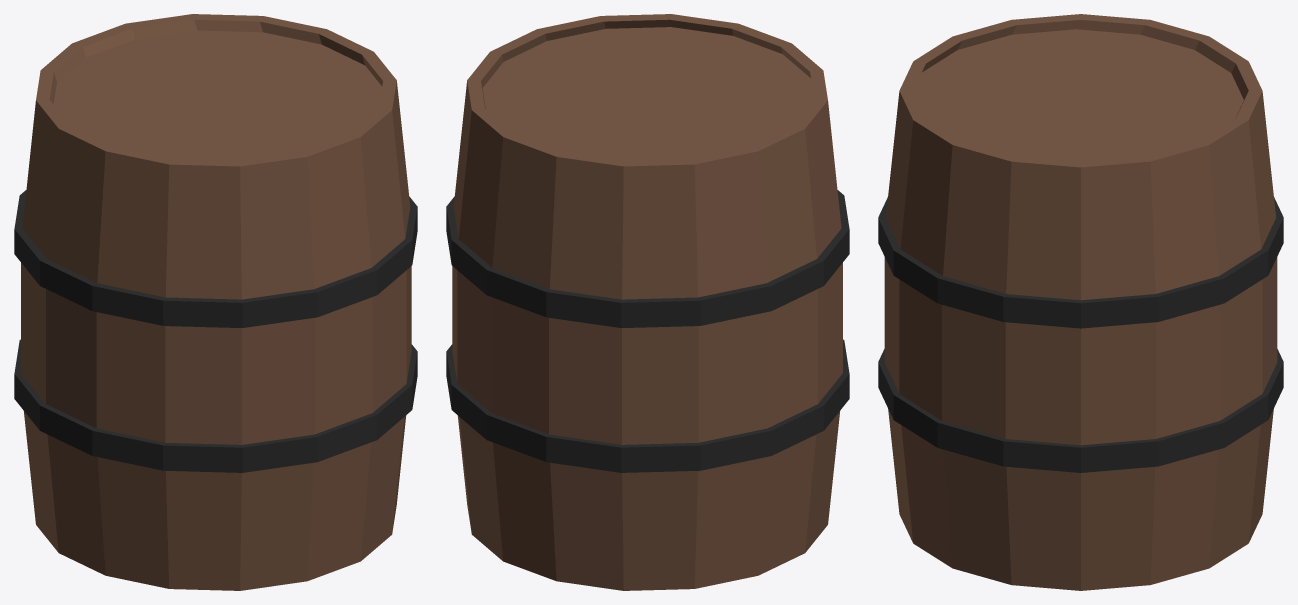
The model's file is Barrel.fbx.
3 renders of one model, left to right at view 1: azimuth 30°, elevation 25°; view 2: azimuth 150°, elevation 25°; view 3: azimuth 270°, elevation 25°, orthographic.
Parts seen in each view (by area): view 1: Barrel; view 2: Barrel; view 3: Barrel.
Part boxes in pixels (x1,y1,x2,y2): Barrel: (14, 14, 417, 590); Barrel: (446, 14, 849, 590); Barrel: (878, 14, 1283, 590).
Size of the model in its own units: 109 by 125 by 109.
